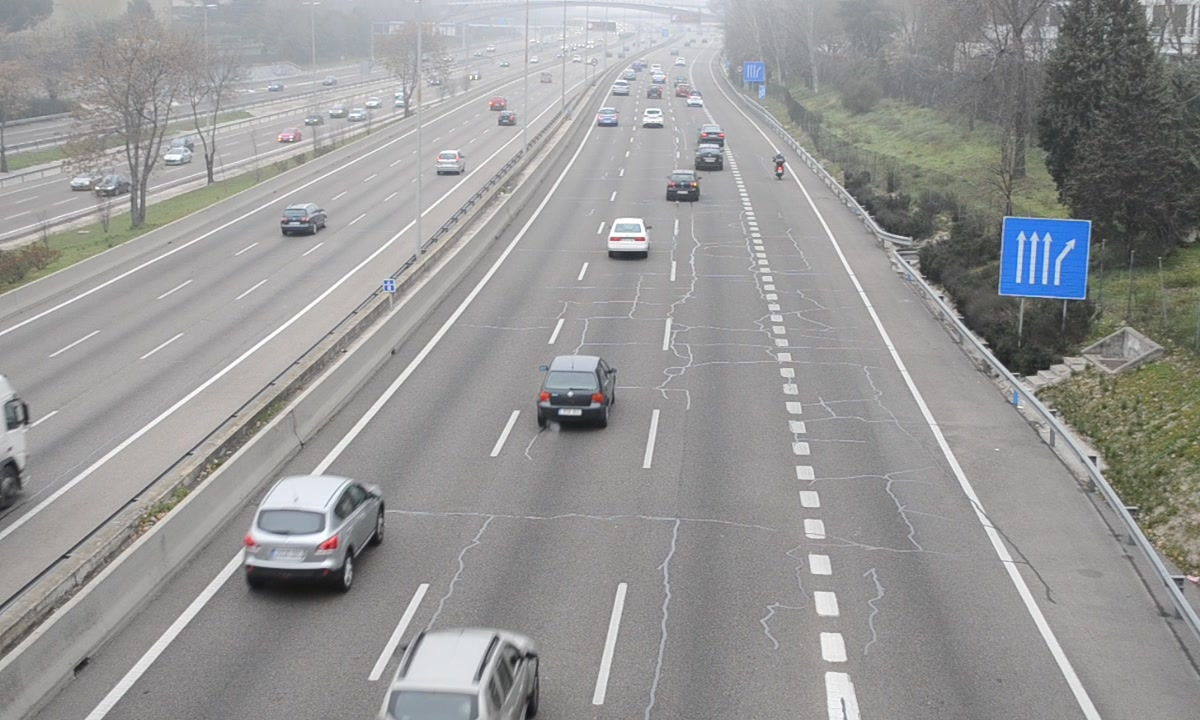car: (381, 627, 539, 720), (247, 477, 383, 579), (538, 356, 615, 424), (609, 217, 651, 255), (665, 170, 700, 203), (695, 144, 725, 171), (640, 106, 666, 130), (699, 123, 727, 145)
motorcycle: (772, 152, 787, 182)
